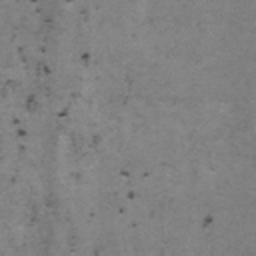Oxide scale of temperature system: (0, 0, 150, 229), (202, 215, 215, 229), (91, 247, 101, 256)
